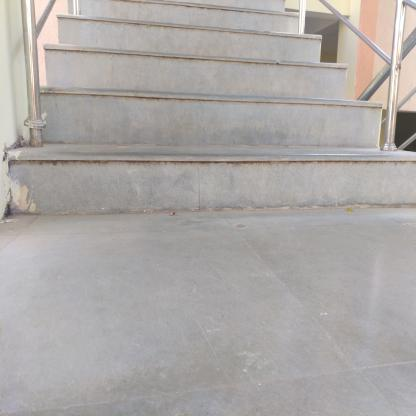stairs: (54, 20, 295, 227)
